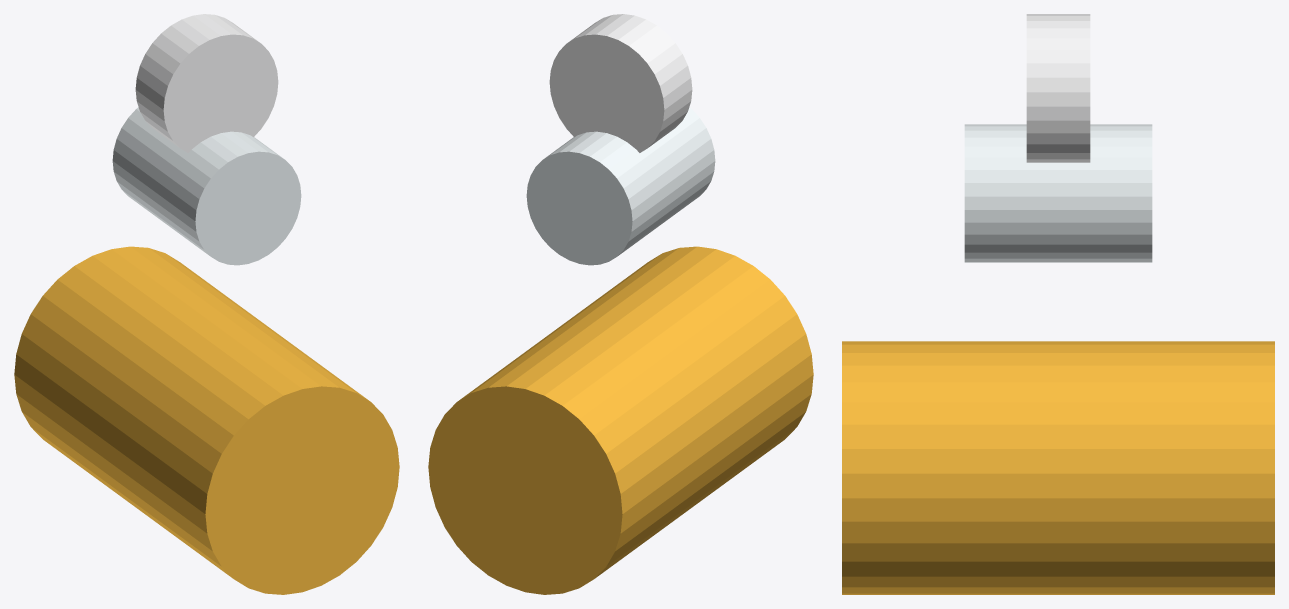
Rendered from orange-juice.glb.
3 views of the same model, side by side, from view 1: azimuth 30°, elevation 25°; view 2: azimuth 150°, elevation 25°; view 3: azimuth 270°, elevation 25° (orthographic). The views are drawn at different scales.
Parts seen in each view (by area): view 1: juice_liquid, carafe_neck, carafe_stopper; view 2: juice_liquid, carafe_neck, carafe_stopper; view 3: juice_liquid, carafe_neck, carafe_stopper.
Part boxes in pixels (left/top/right/bottom): juice_liquid: left=14, top=246, right=399, bottom=594; carafe_neck: left=112, top=107, right=301, bottom=265; carafe_stopper: left=135, top=14, right=278, bottom=152; juice_liquid: left=428, top=246, right=813, bottom=594; carafe_neck: left=526, top=107, right=715, bottom=265; carafe_stopper: left=549, top=14, right=692, bottom=152; juice_liquid: left=842, top=341, right=1274, bottom=594; carafe_neck: left=964, top=124, right=1152, bottom=262; carafe_stopper: left=1026, top=14, right=1090, bottom=162.
Bounding box in the file's own units: 0.088 × 0.215 × 0.15.
